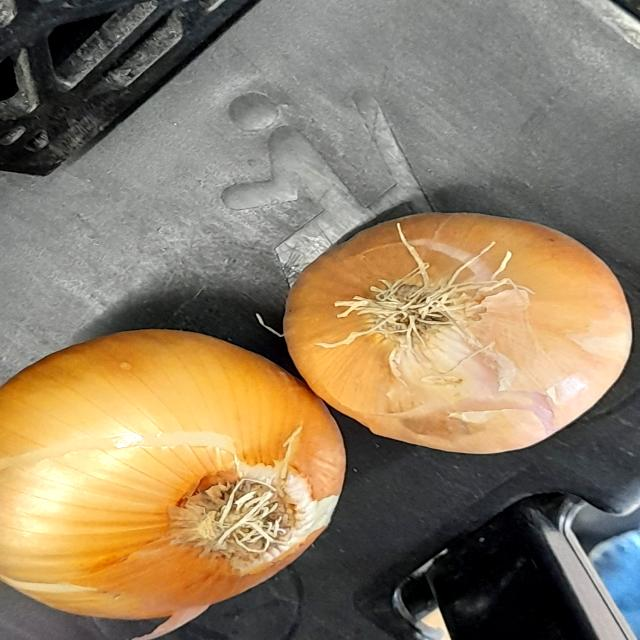onion: (0, 311, 364, 640), (274, 197, 640, 460)
